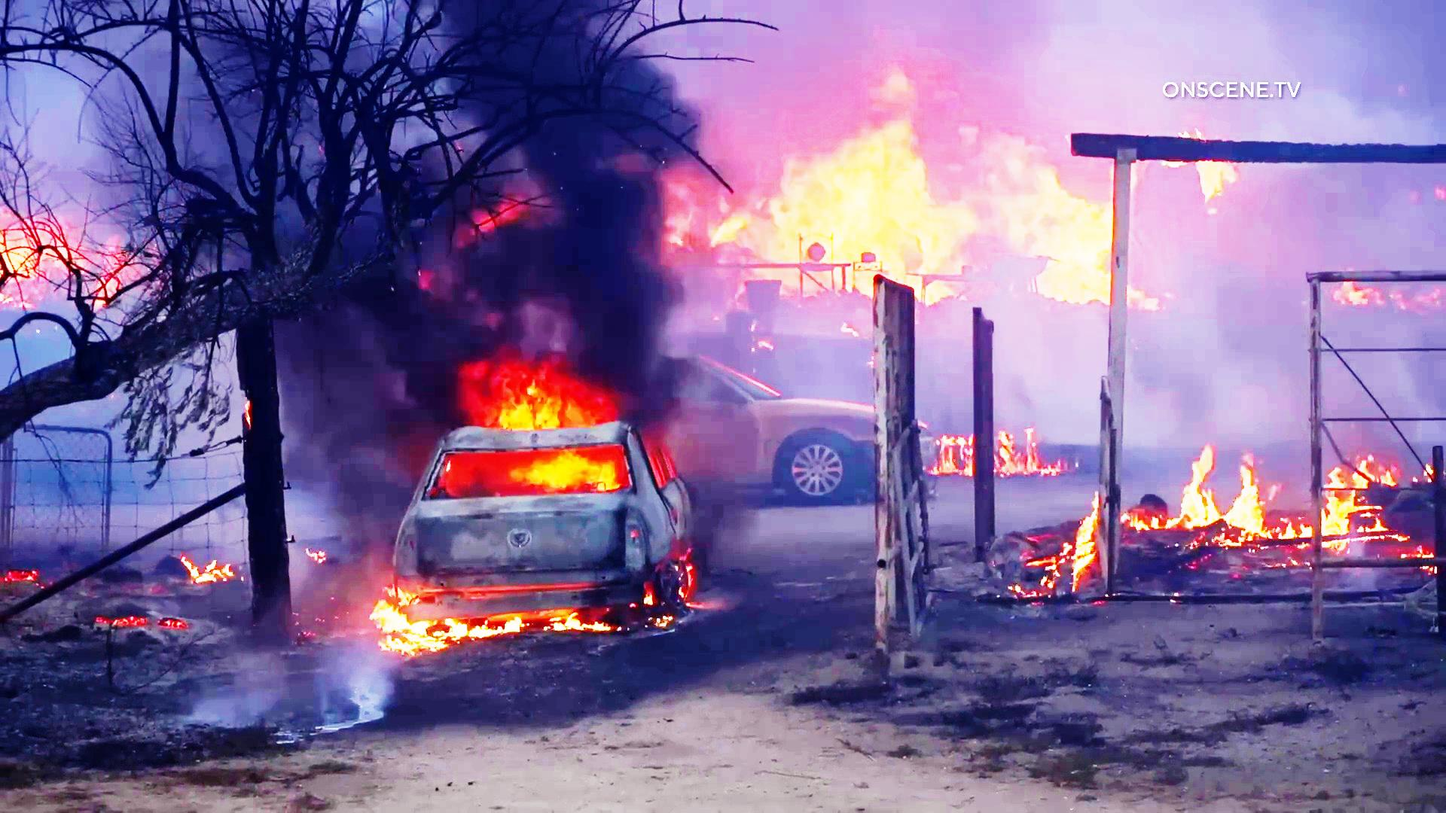fire: (752, 66, 1127, 308), (471, 360, 618, 503)
smoke: (460, 2, 644, 349)
